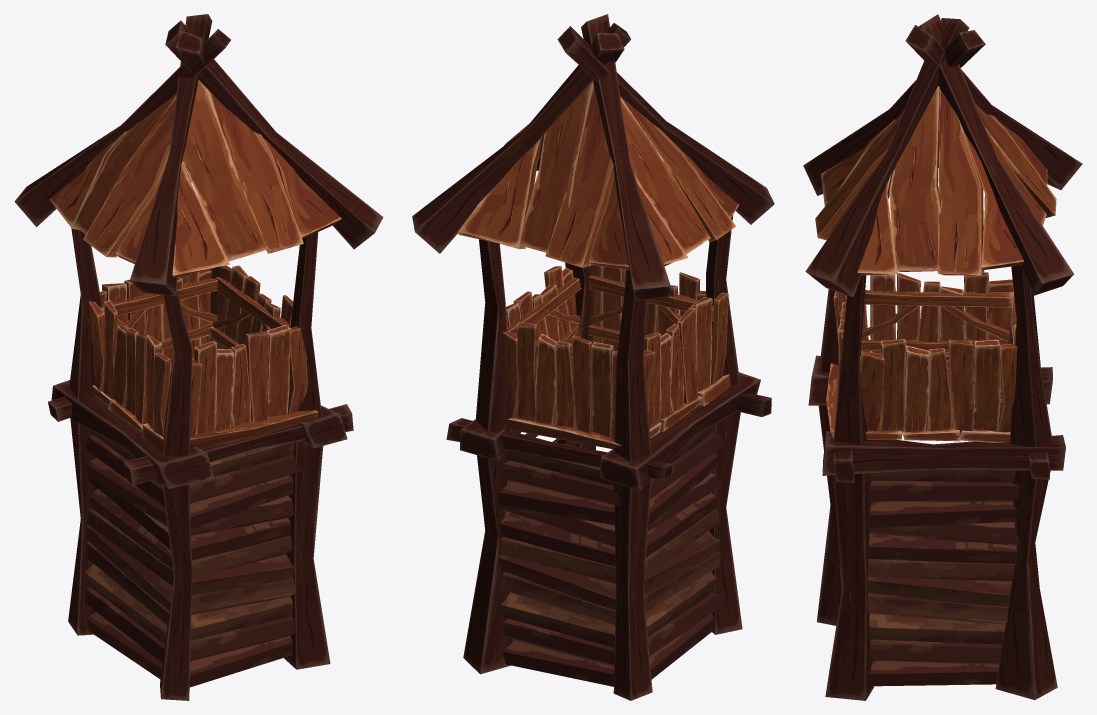
The model's file is watchtower-3.glb.
3 views of the same model, side by side, from view 1: azimuth 30°, elevation 25°; view 2: azimuth 150°, elevation 25°; view 3: azimuth 270°, elevation 25° (orthographic). The views are drawn at different scales.
Visible parts, largest first — view 1: SM_PROP_watchtower_wood_02_small; view 2: SM_PROP_watchtower_wood_02_small; view 3: SM_PROP_watchtower_wood_02_small.
Boxes of the visible parts, x1,y1,x2,y2 form: SM_PROP_watchtower_wood_02_small: [14, 14, 383, 700]; SM_PROP_watchtower_wood_02_small: [412, 14, 774, 700]; SM_PROP_watchtower_wood_02_small: [803, 14, 1082, 700].
Bounding box in the file's own units: 5.01 × 11.3 × 4.48.
Materials: 3 (3 with a texture image).
